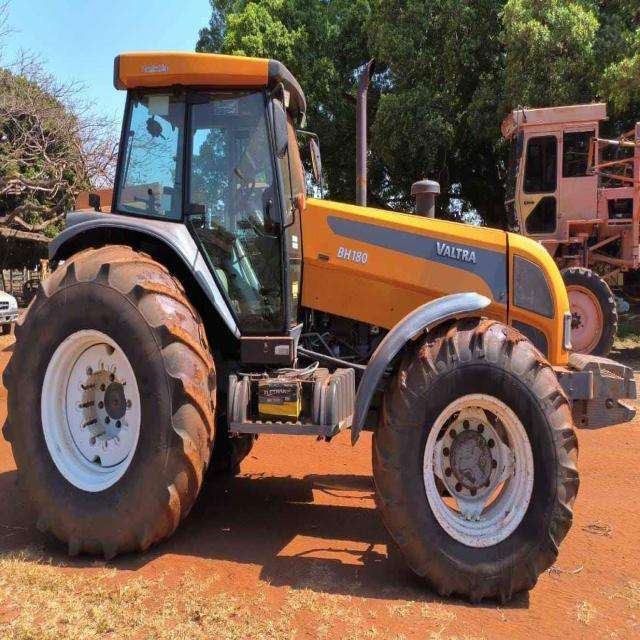Tratores - v5 YOLO V8L 2024-11-13: (4, 39, 577, 604)
